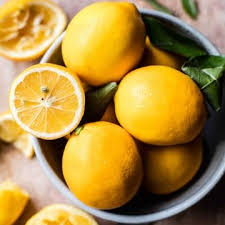Lemon: (108, 66, 217, 149), (53, 121, 146, 215), (57, 1, 142, 86)
